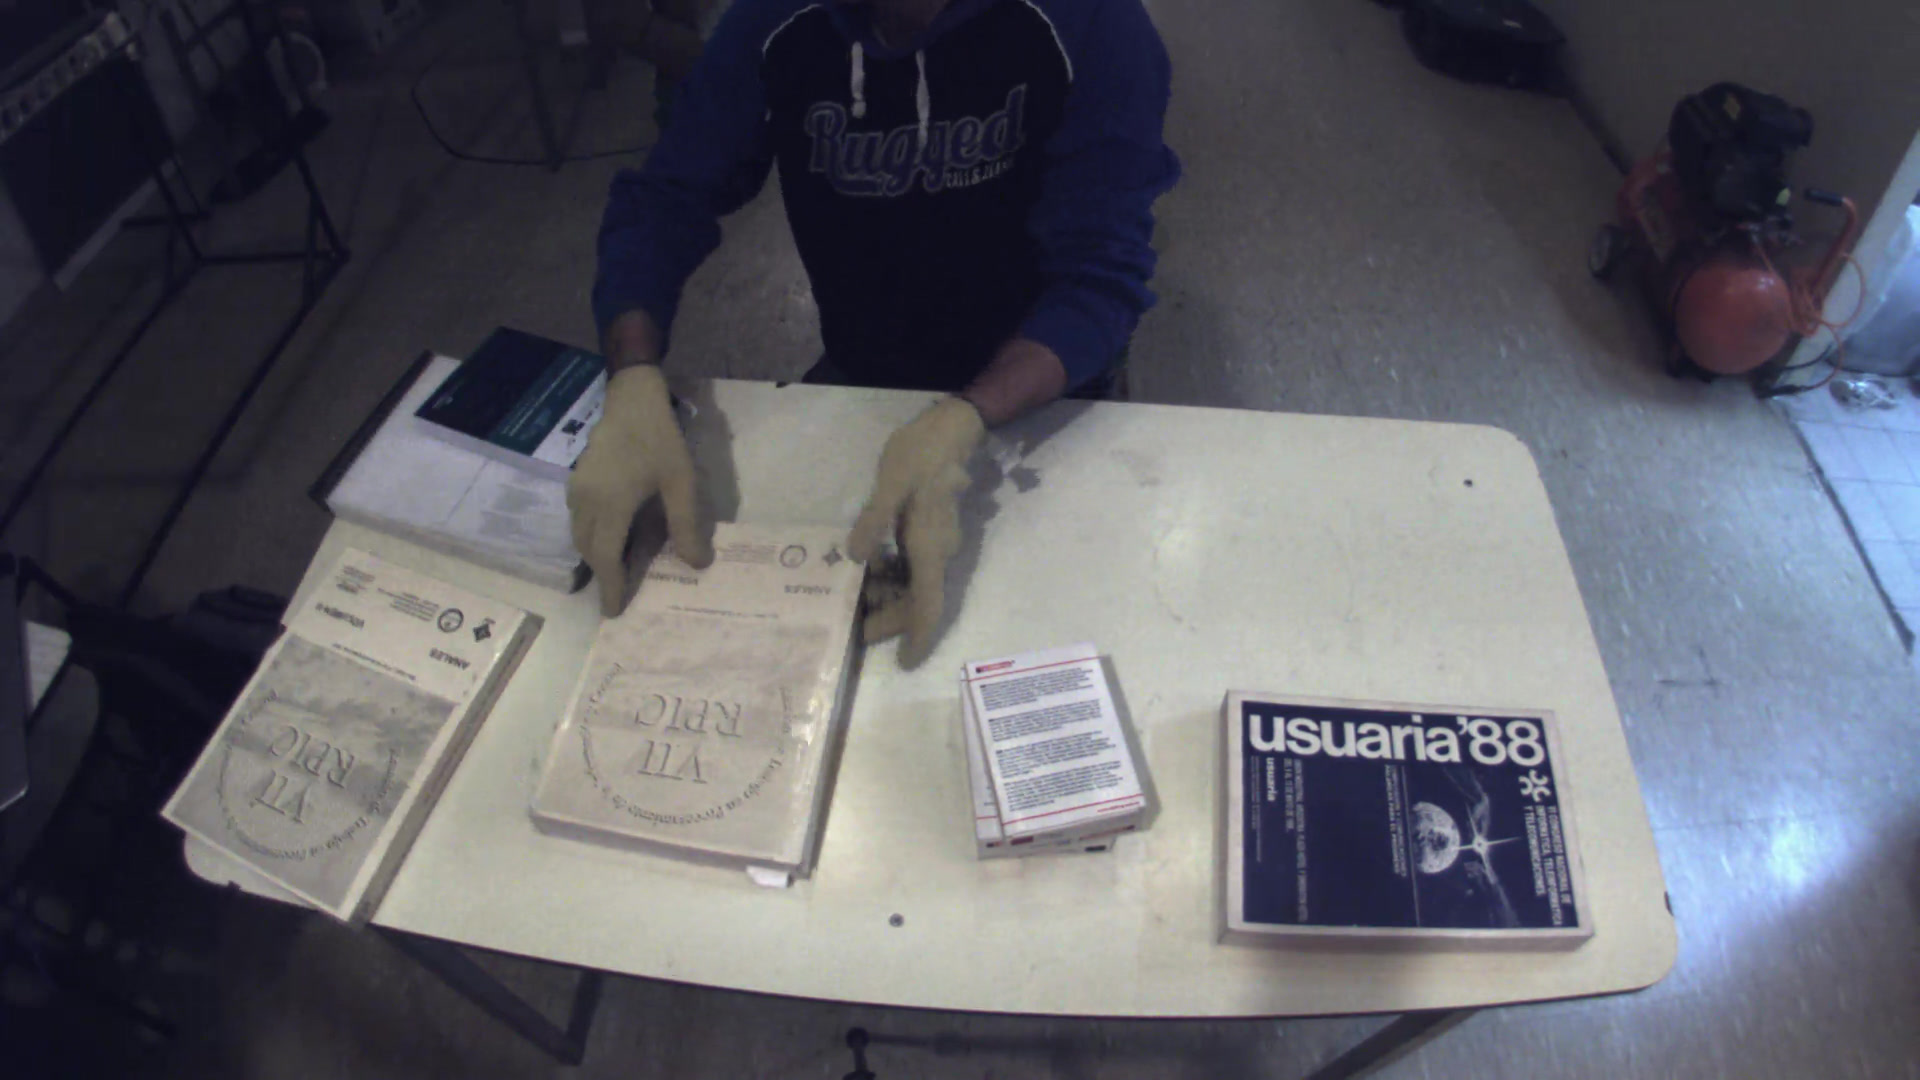hand: (545, 352, 717, 617), (833, 378, 992, 657)
